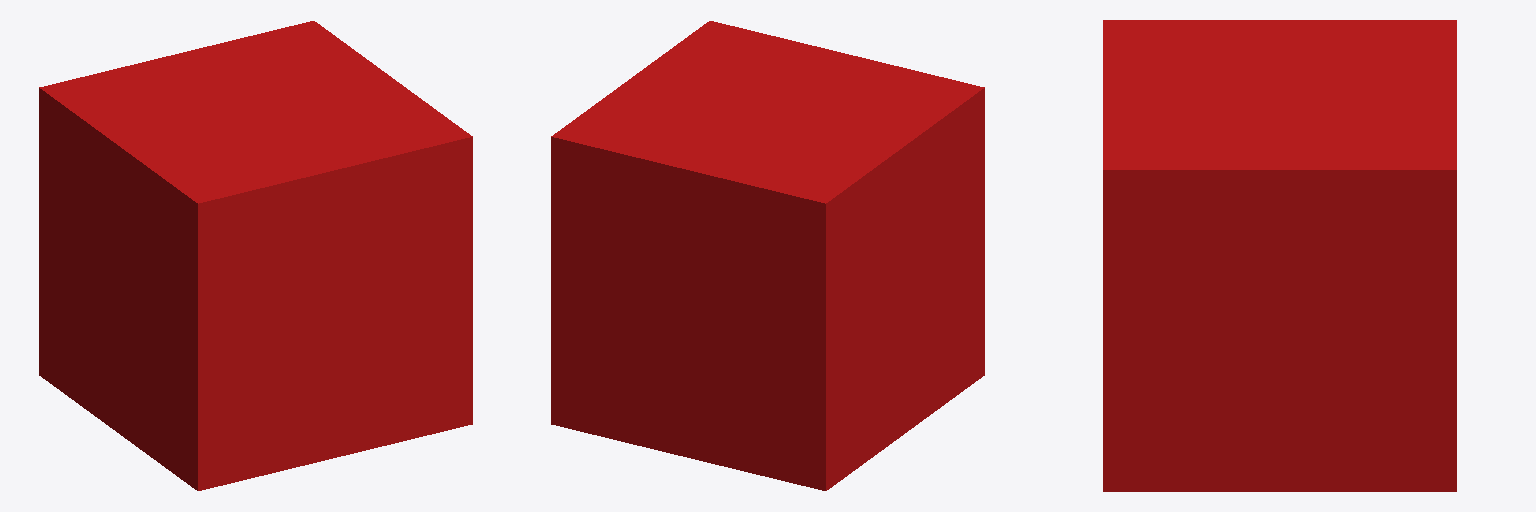
URDF robot description (moss_bot):
<?xml version="1.0" ?>
<!-- =================================================================================== -->
<!-- |    This document was autogenerated by xacro from drone4.urdf                    | -->
<!-- |    EDITING THIS FILE BY HAND IS NOT RECOMMENDED                                 | -->
<!-- =================================================================================== -->
<!-- This URDF was automatically created by SolidWorks to URDF Exporter! Originally created by [author] ([email redacted]) 
    Commit Version: 1.6.0-4-g7f85cfe  Build Version: 1.6.7995.38578
    For more information, please see http://wiki.ros.org/sw_urdf_exporter -->
<robot name="moss_bot">
  <material name="black">
    <color rgba="0.0 0.0 0.0 1.0"/>
  </material>
  <material name="blue">
    <color rgba="0.0 0.0 1.0 1.0"/>
  </material>
  <material name="green">
    <color rgba="0.0 0.8 0.0 1.0"/>
  </material>
  <material name="grey">
    <color rgba="0.2 0.2 0.2 1.0"/>
  </material>
  <material name="orange">
    <color rgba="1.0 0.423529411765 0.0392156862745 1.0"/>
  </material>
  <material name="brown">
    <color rgba="0.870588235294 0.811764705882 0.764705882353 1.0"/>
  </material>
  <material name="red">
    <color rgba="0.80078125 0.12890625 0.1328125 1.0"/>
  </material>
  <material name="white">
    <color rgba="1.0 1.0 1.0 1.0"/>
  </material>

  <!-- ROS2 Control Plugin -->
  <gazebo>
    <plugin filename="libgazebo_ros_control.so" name="gazebo_ros_control">
      <robotNamespace>/moss_bot</robotNamespace>
      <robotParam>/robot_description</robotParam>
      <robotSimType>gazebo_ros_control/DefaultRobotHWSim</robotSimType>
    </plugin>
  </gazebo>

  <!-- Diff Drive Plugin -->
  <gazebo>
    <plugin filename="libgazebo_ros_diff_drive.so" name="differential_drive_controller">
      <ros>
        <!-- <namespace>/box_bot</namespace> -->
      </ros>

      <!-- wheels -->
      <left_joint>right_wheel_joint</left_joint>
      <right_joint>left_wheel_joint</right_joint>

      <!-- kinematics -->
      <wheel_separation>0.198</wheel_separation>
      <wheel_diameter>0.09</wheel_diameter>

      <!-- limits -->
      <max_wheel_torque>0.1</max_wheel_torque>
      <max_wheel_acceleration>1.0</max_wheel_acceleration>

      <!-- output -->
      <publish_odom>true</publish_odom>
      <publish_odom_tf>true</publish_odom_tf>

      <odometry_frame>odom</odometry_frame>
      <robot_base_frame>chassis</robot_base_frame>
    </plugin>

    <plugin filename="libgazebo_ros_joint_state_publisher.so" name="moss_bot_joint_state">
      <ros>
        <remapping>~/out:=joint_states</remapping>
      </ros>
      <update_rate>30</update_rate>
      <joint_name>right_wheel_joint</joint_name>
      <joint_name>left_wheel_joint</joint_name>
    </plugin>
  </gazebo>

  <!-- IMU Plugin -->
  <gazebo reference="base_link">
    <sensor name="moss_bot_imu" type="imu">
      <always_on>true</always_on>
      <update_rate>30</update_rate>
      <plugin filename="libgazebo_ros_imu_sensor.so" name="box_bot_imu_plugin" >
        <ros>
          <remapping>~/out:=data</remapping>
        </ros>
      </plugin>
    </sensor>
  </gazebo>

  <!-- Camera-->
  <link name='rgb_cam_camera_link'>
		<visual>
			<geometry>
				<box size="0.01 0.01 0.01"/>
			</geometry>
      <material name="red"/>
		</visual>
	</link>

  <gazebo reference='rgb_cam_camera_link'>
    <material>Gazebo/Red</material>
  </gazebo>

  <joint name="rgb_cam_camera_link_joint" type="fixed">
		<origin rpy="0 0 0" xyz="0.05 0 0.05"/>
		<parent link="chassis"/>
		<child link="rgb_cam_camera_link"/>
	</joint>

  <link name="rgb_cam_camera_link_frame">
  </link>

  <joint name="rgb_cam_camera_frame_joint" type="fixed">
      <origin xyz="0 0 0" rpy="0 0 0" />
      <parent link="rgb_cam_camera_link" />
      <child link="rgb_cam_camera_link_frame" />
  </joint>

  <gazebo reference="rgb_cam_camera_link_frame">
    <sensor type="camera" name="rgb_cam">
      <alwaysOn>true</alwaysOn>
      <visualize>true</visualize>
      <update_rate>10.0</update_rate>
      <camera name="rgb_cam_SP">
        <pose>0 0 0 0 0 0</pose>
        <horizontal_fov>1.3962634</horizontal_fov>
        <image>
          <width>640</width>
          <height>480</height>
          <format>R8G8B8</format>
        </image>
        <clip>
          <near>0.005</near>
          <far>20.0</far>
        </clip>
      </camera>

      <plugin filename="intel_realsense_r200_rgb_driver" name="camera_controller">
        <cameraName>intel_realsense_r200_rgb</cameraName>
        <imageTopicName>image_raw</imageTopicName>
          <cameraInfoTopicName>camera_info</cameraInfoTopicName>
          <frameName>realsense_rgb_frame</frameName>
        <hackBaseline>0.07</hackBaseline>
        <distortionK1>0.0</distortionK1>
        <distortionK2>0.0</distortionK2>
        <distortionK3>0.0</distortionK3>
        <distortionT1>0.0</distortionT1>
        <distortionT2>0.0</distortionT2>
      </plugin>
    </sensor>
  </gazebo>

  <link name="base_link">
  </link>

  <link name="chassis">
    <inertial>
      <origin rpy="0 0 0" xyz="-0.00103749030591196 0.0194066336453528 -0.142976007690673"/>
      <mass value="1.5696761954861"/>
      <inertia ixx="0.00770869554824896" ixy="6.32715003435383E-06" ixz="-9.78018093419617E-05" iyy="0.0152795405278708" iyz="-5.60185465803943E-05" izz="0.00807559595588393"/>
    </inertial>
    <visual>
      <origin rpy="0 0 0" xyz="0 0 0"/>
      <geometry>
        <mesh filename="file:///[local-path]/moss_project/install/moss_description/share/moss_description/meshes/base_link.STL"/>
      </geometry>
      <material name="">
        <color rgba="0.792156862745098 0.819607843137255 0.933333333333333 1"/>
      </material>
    </visual>
    <collision>
      <origin rpy="0 0 0" xyz="0 0 0"/>
      <geometry>
        <mesh filename="file:///[local-path]/moss_project/install/moss_description/share/moss_description/meshes/base_link.STL"/>
      </geometry>
    </collision>
  </link>

  <joint name="base_link_joint" type="fixed">
    <origin rpy="0 0 0" xyz="0 0 0"/>
    <parent link="base_link"/>
    <child link="chassis"/>
  </joint>

  <link name="left_wheel">
    <inertial>
      <origin rpy="0 0 0" xyz="-0.0167008021462844 -6.14550641332701E-05 0.000790217368505477"/>
      <mass value="0.039416993023242"/>
      <inertia ixx="4.65665430589552E-05" ixy="1.39028084407786E-10" ixz="-1.07377430067167E-10" iyy="2.36178454866054E-05" iyz="-2.45793300882201E-12" izz="2.36178443396775E-05"/>
    </inertial>
    <visual>
      <origin rpy="0 0 0" xyz="0 0 0"/>
      <geometry>
        <mesh filename="file:///[local-path]/moss_project/install/moss_description/share/moss_description/meshes/left_wheel.STL"/>
      </geometry>
      <material name="">
        <color rgba="0.792156862745098 0.819607843137255 0.933333333333333 1"/>
      </material>
    </visual>
    <collision>
      <origin rpy="0 0 0" xyz="0 0 0"/>
      <geometry>
        <mesh filename="file:///[local-path]/moss_project/install/moss_description/share/moss_description/meshes/left_wheel.STL"/>
      </geometry>
    </collision>
  </link>

  <joint name="left_wheel_joint" type="continuous">
    <origin rpy="0.25279 0 0" xyz="-0.084 0.060004 0.029996"/>
    <parent link="chassis"/>
    <child link="left_wheel"/>
    <axis xyz="1 0 0"/>
  </joint>

  <link name="right_wheel">
    <inertial>
      <origin rpy="0 0 0" xyz="0.0167008020435532 -2.99490744704034E-08 -1.64070603013433E-07"/>
      <mass value="0.0394169932557089"/>
      <inertia ixx="4.65665430607275E-05" ixy="-3.21699920762843E-11" ixz="-1.72696361853544E-10" iyy="2.36178425346664E-05" iyz="8.46460880870787E-13" izz="2.36178472904368E-05"/>
    </inertial>
    <visual>
      <origin rpy="0 0 0" xyz="0 0 0"/>
      <geometry>
        <mesh filename="file:///[local-path]/moss_project/install/moss_description/share/moss_description/meshes/right_wheel.STL"/>
      </geometry>
      <material name="">
        <color rgba="0.792156862745098 0.819607843137255 0.933333333333333 1"/>
      </material>
    </visual>
    <collision>
      <origin rpy="0 0 0" xyz="0 0 0"/>
      <geometry>
        <mesh filename="file:///[local-path]/moss_project/install/moss_description/share/moss_description/meshes/right_wheel.STL"/>
      </geometry>
    </collision>
  </link>
  
  <joint name="right_wheel_joint" type="continuous">
    <origin rpy="1.5708 0 0" xyz="0.084 0.059996 0.029996"/>
    <parent link="chassis"/>
    <child link="right_wheel"/>
    <axis xyz="1 0 0"/>
  </joint>
</robot>

--- Render facts (derived) ---
3 views of the same robot in one strip: view 1: azimuth 30°, elevation 25°; view 2: azimuth 150°, elevation 25°; view 3: azimuth 270°, elevation 25° (orthographic).
Model moss_bot with 6 links and 5 joints (2 continuous, 3 fixed), rooted at base_link, posed every joint at zero.
Visible links, largest first — view 1: rgb_cam_camera_link; view 2: rgb_cam_camera_link; view 3: rgb_cam_camera_link.
Link boxes in pixels (x1=…): rgb_cam_camera_link: x1=39, y1=21, x2=472, y2=490; rgb_cam_camera_link: x1=551, y1=21, x2=984, y2=490; rgb_cam_camera_link: x1=1103, y1=20, x2=1456, y2=491.
Size in the robot's own frame: 0.01 by 0.01 by 0.01 metres.
Geometry: only primitive shapes (box / cylinder / sphere) drawn; not drawn: 3 mesh visuals (reference in a form the renderer does not follow).